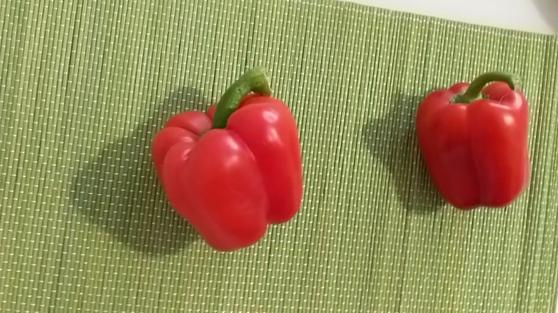pepper: (162, 77, 303, 250), (421, 83, 529, 210)
